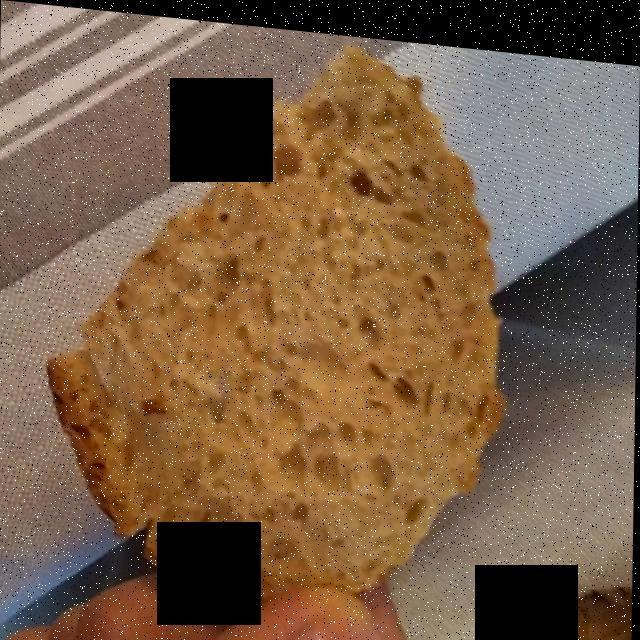bread: (44, 33, 498, 595)
